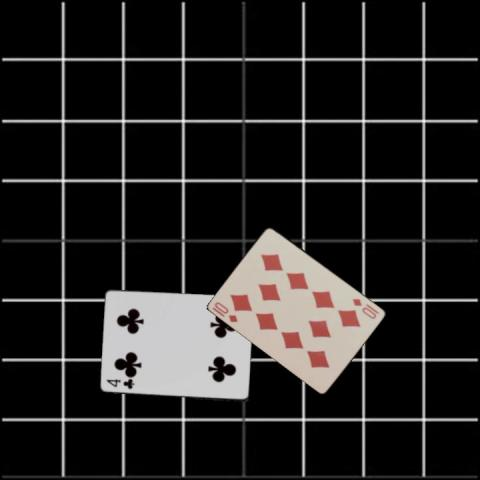10d: (350, 295, 378, 321), (210, 299, 240, 323)
4c: (104, 376, 136, 390)
